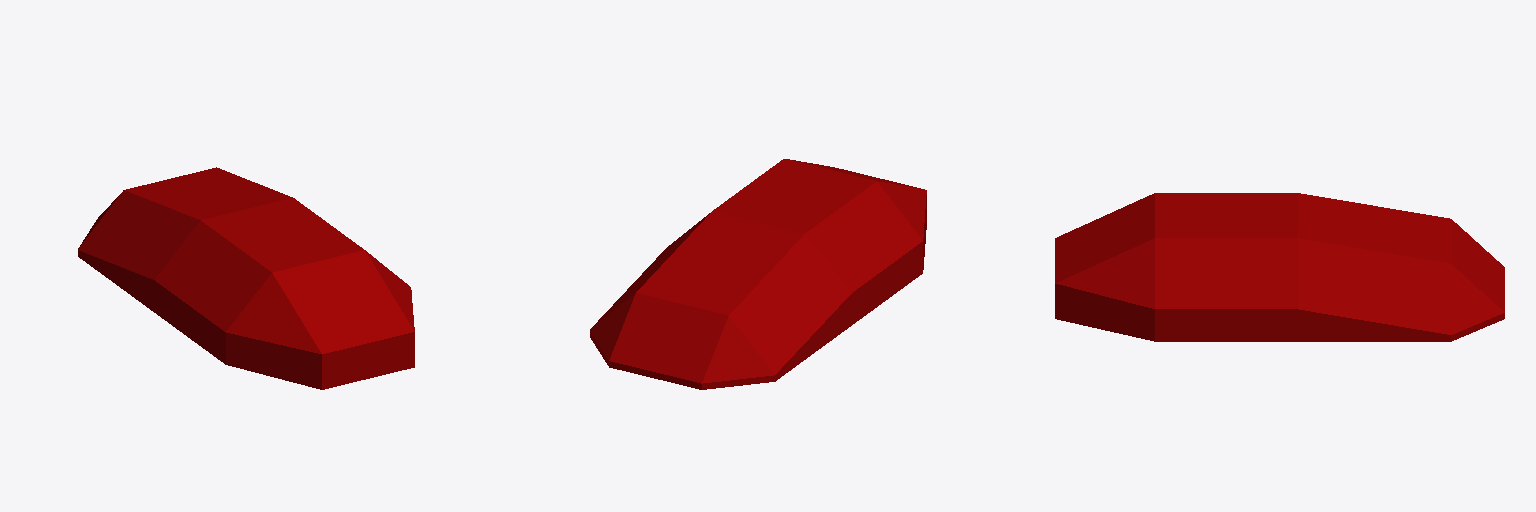
The model's file is Collision_Canopy.obj.
3 renders of one model, left to right at view 1: azimuth 30°, elevation 25°; view 2: azimuth 150°, elevation 25°; view 3: azimuth 270°, elevation 25°, orthographic.
Visible parts, largest first — view 1: Collision_Canopy_Cube.004; view 2: Collision_Canopy_Cube.004; view 3: Collision_Canopy_Cube.004.
Part boxes in pixels (bbox=[...]): Collision_Canopy_Cube.004: bbox=[78, 167, 414, 389]; Collision_Canopy_Cube.004: bbox=[590, 159, 926, 389]; Collision_Canopy_Cube.004: bbox=[1055, 193, 1504, 341].
Size of the model in its own units: 1.5 by 0.625 by 3.15.